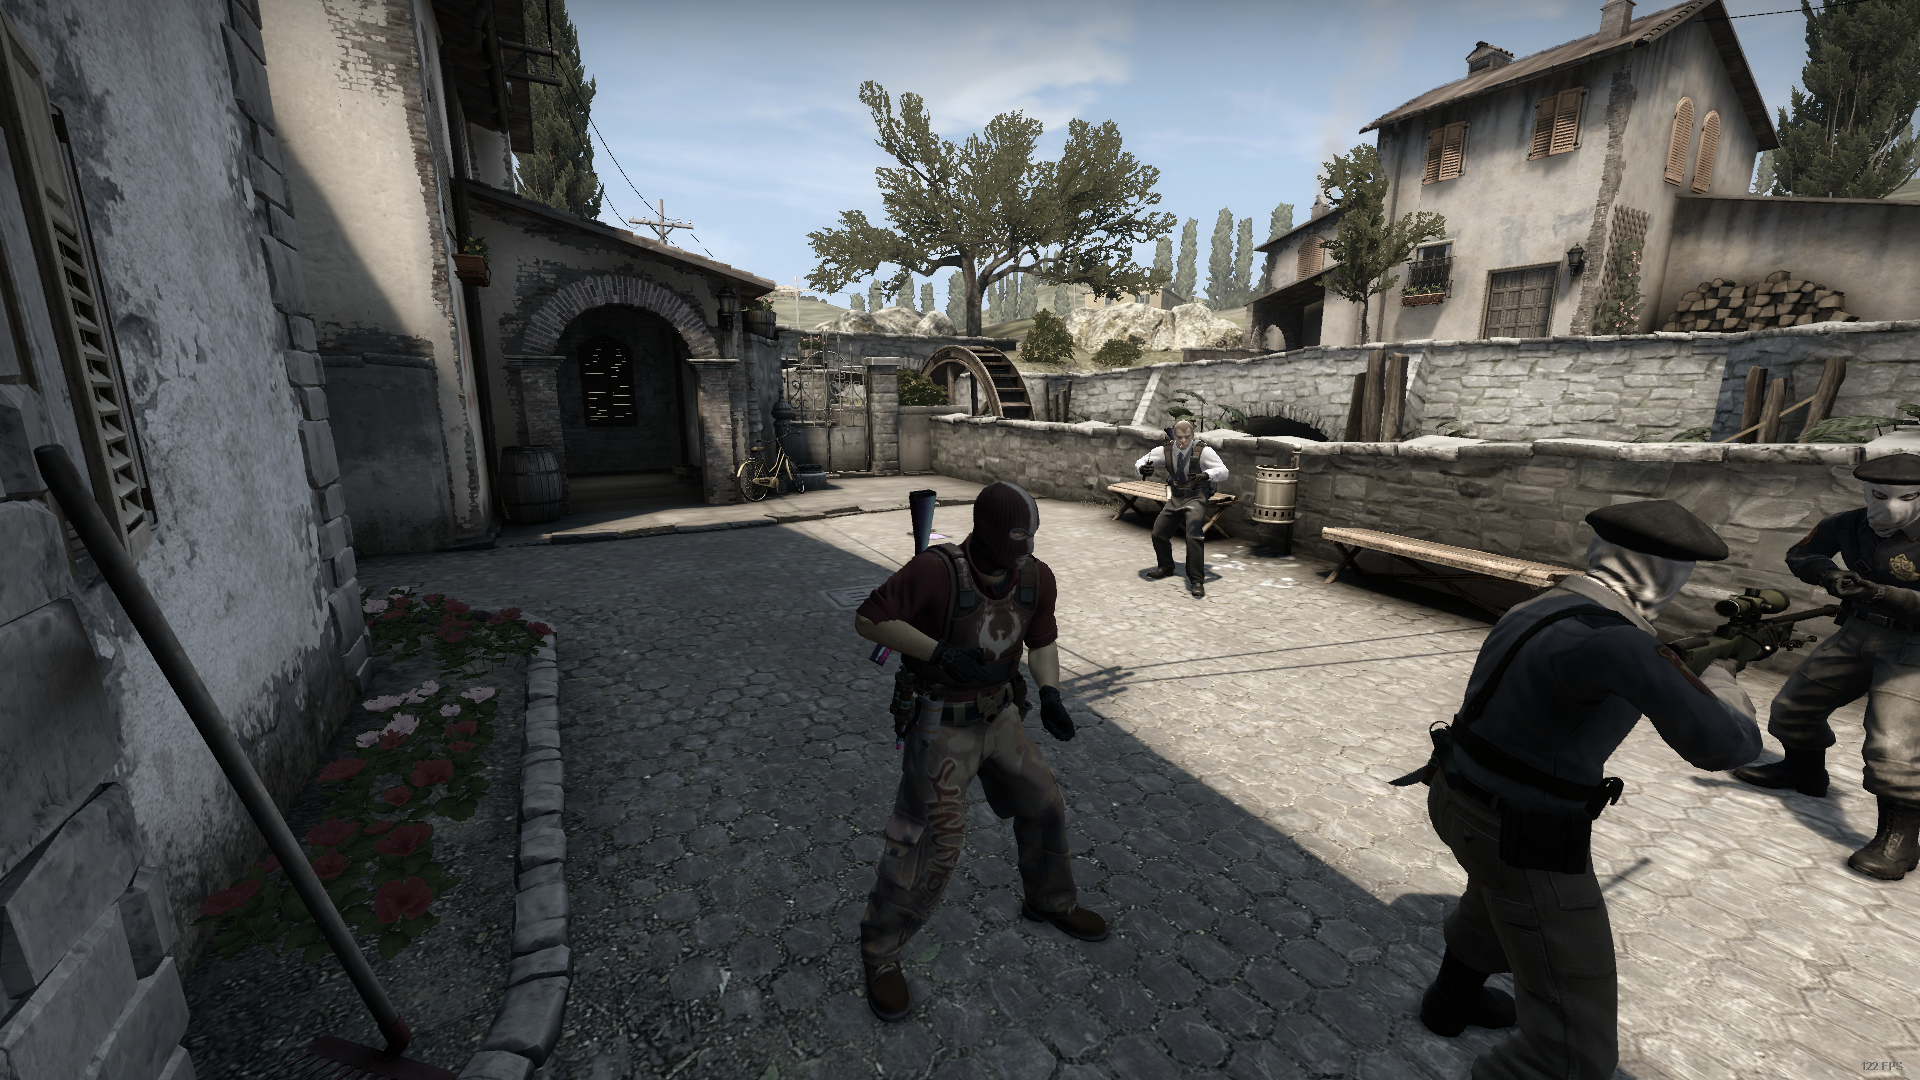t: (1406, 497, 1783, 1080), (1768, 454, 1920, 903)
